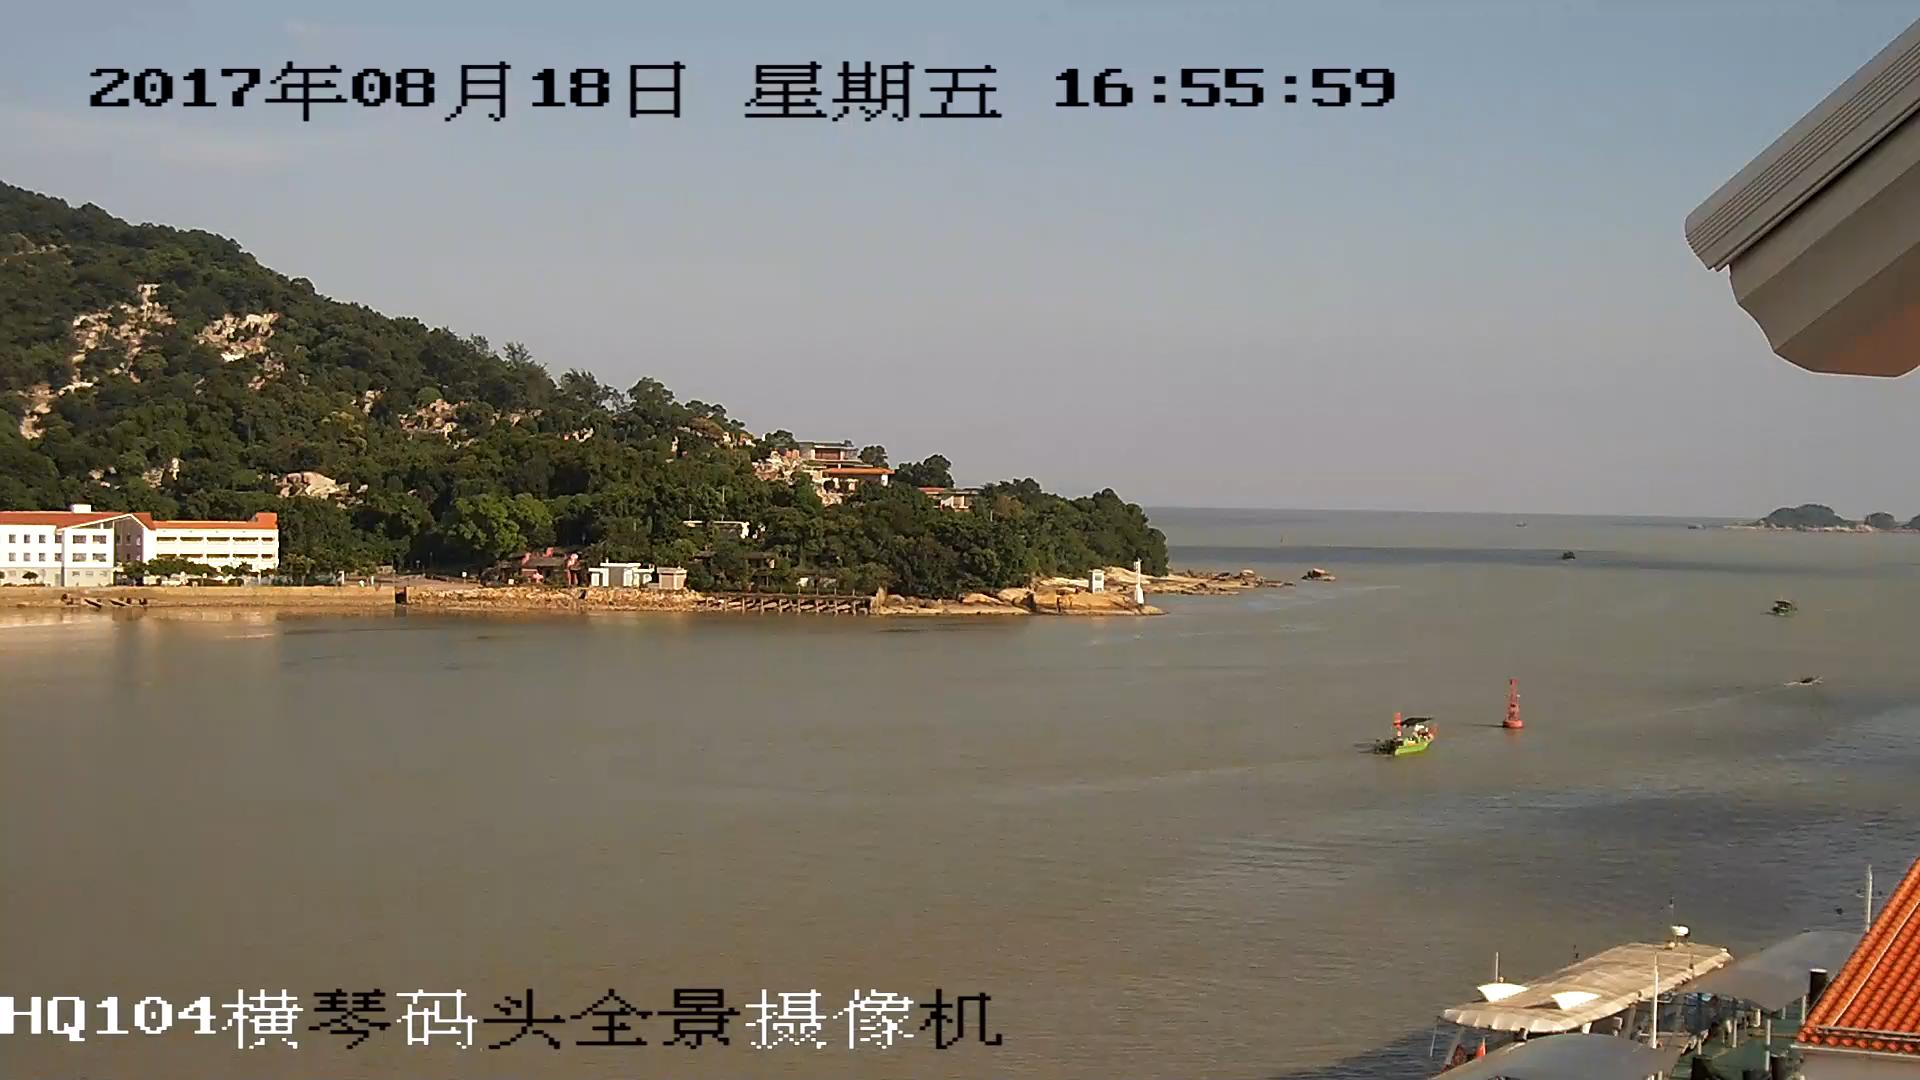fishing boat: (1372, 715, 1436, 756)
